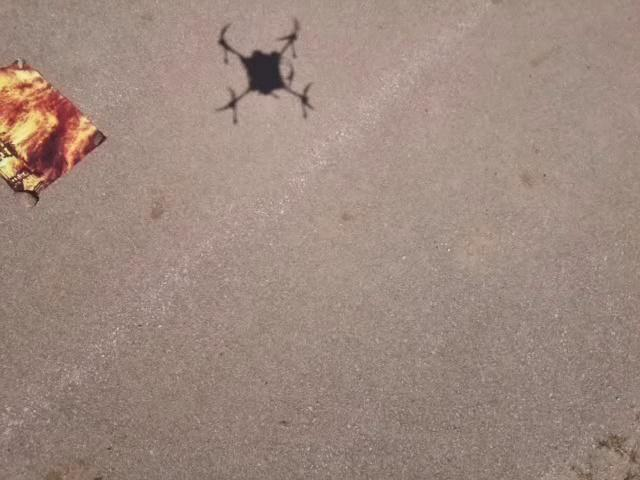fire-poster: (0, 57, 108, 206)
